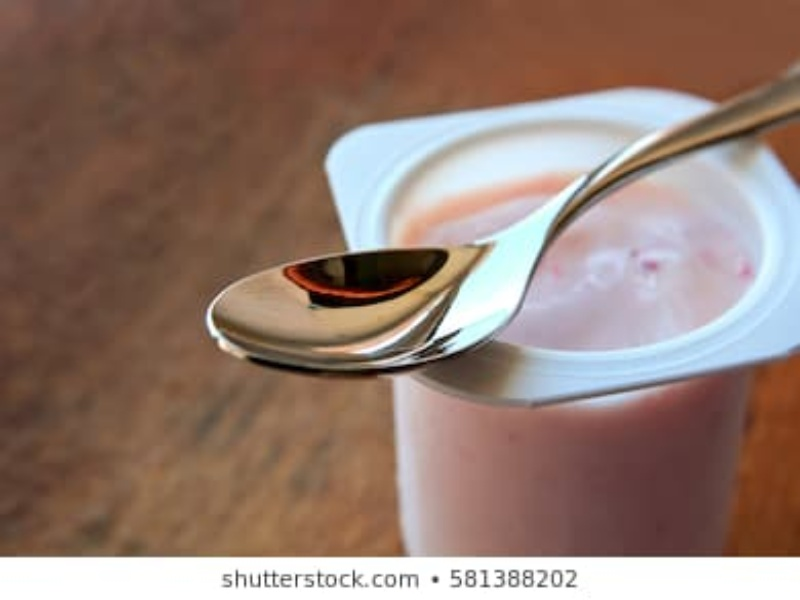yogurt-cup: (321, 83, 795, 556)
